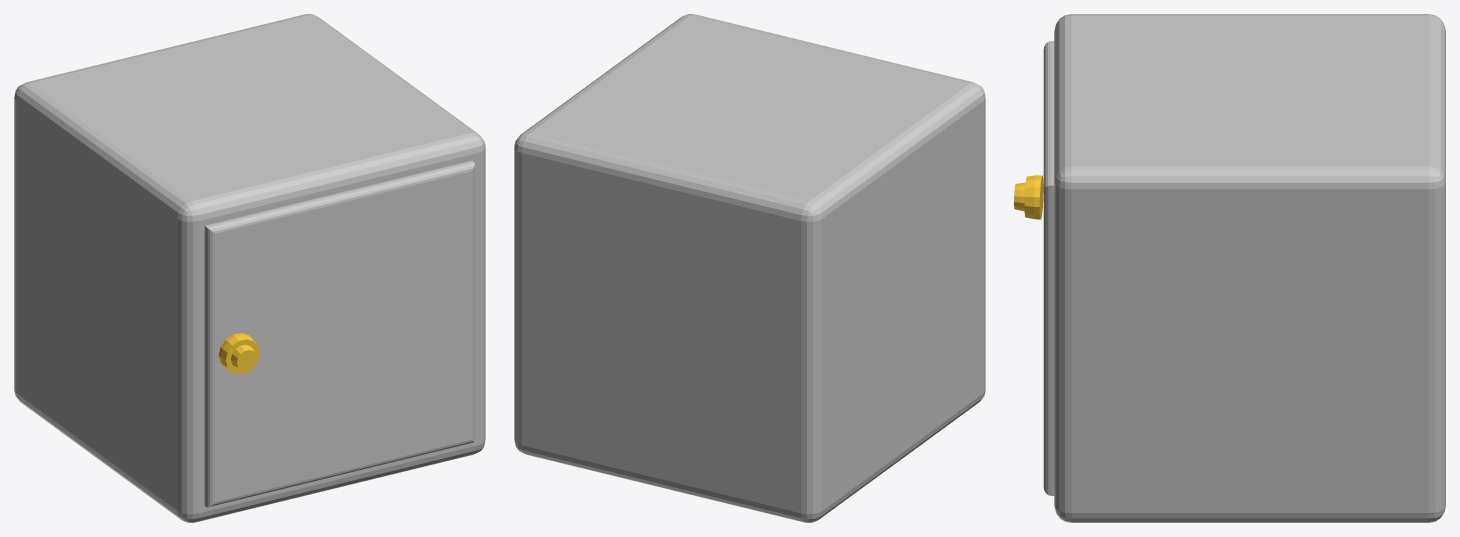
Rendered from Wardrobe_18.fbx.
3 renders of one model, left to right at view 1: azimuth 30°, elevation 25°; view 2: azimuth 150°, elevation 25°; view 3: azimuth 270°, elevation 25°, orthographic. The views are drawn at different scales.
Visible parts, largest first — view 1: Wardrobe_18, Wardrobe_18 Door_1; view 2: Wardrobe_18; view 3: Wardrobe_18, Wardrobe_18 Door_1.
Part boxes in pixels (box(x1,y1,x2,y2)): Wardrobe_18: box(14, 14, 485, 522); Wardrobe_18 Door_1: box(204, 160, 474, 507); Wardrobe_18: box(514, 14, 985, 522); Wardrobe_18: box(1054, 14, 1445, 522); Wardrobe_18 Door_1: box(1014, 41, 1054, 495).
Bounding box in the file's own units: 0.4841 × 0.4841 × 0.534.
